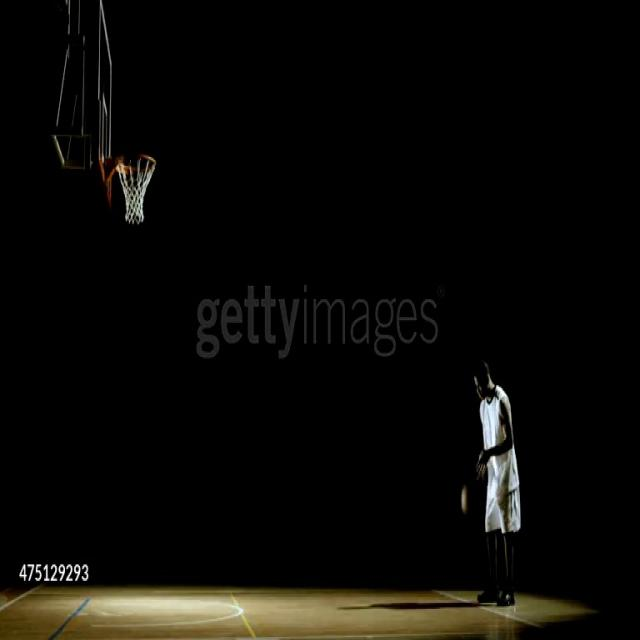ball: (459, 478, 479, 518)
